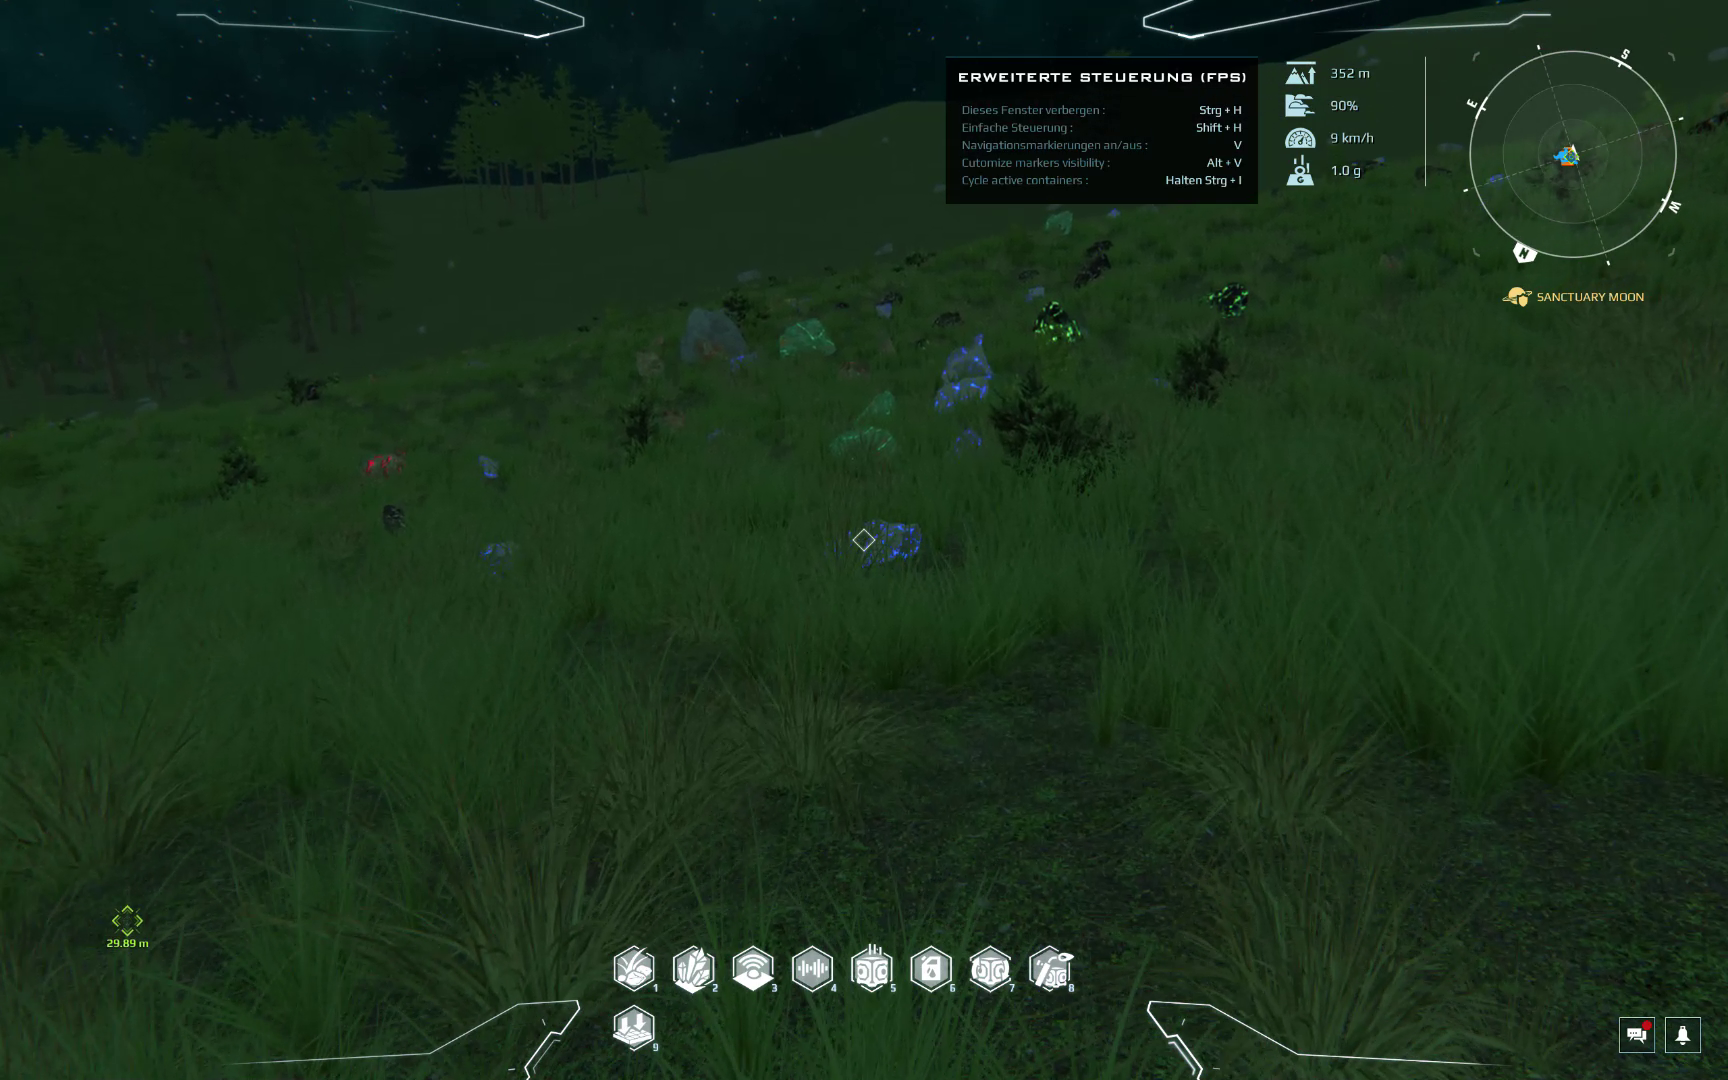Ore: (931, 328, 1001, 419), (832, 511, 929, 571), (819, 422, 901, 472), (840, 379, 909, 431), (1028, 295, 1089, 351), (775, 316, 840, 360), (909, 307, 963, 356), (1205, 276, 1252, 325), (471, 538, 529, 572), (357, 445, 411, 482), (468, 445, 509, 491), (941, 424, 992, 455), (376, 500, 416, 540), (1043, 208, 1077, 241), (720, 345, 756, 375), (871, 284, 909, 310), (897, 248, 934, 272)
